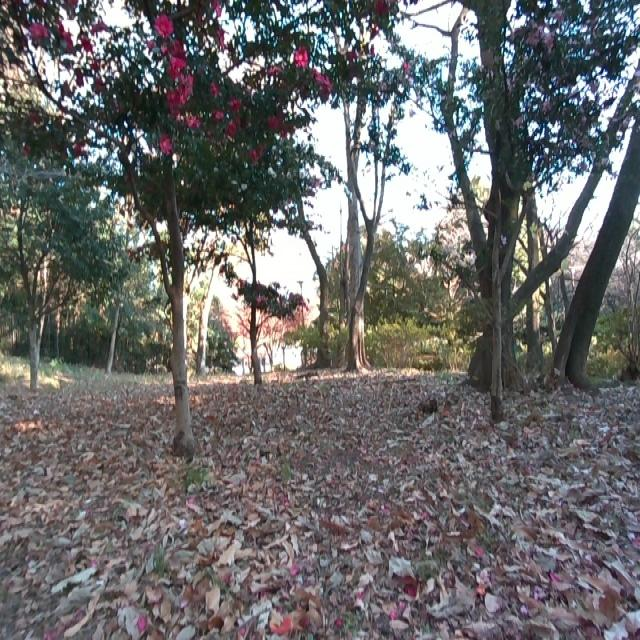tree: (417, 1, 555, 411), (543, 40, 640, 383), (131, 66, 213, 448), (330, 0, 401, 381), (283, 121, 343, 367), (11, 182, 57, 380), (231, 208, 269, 375)
